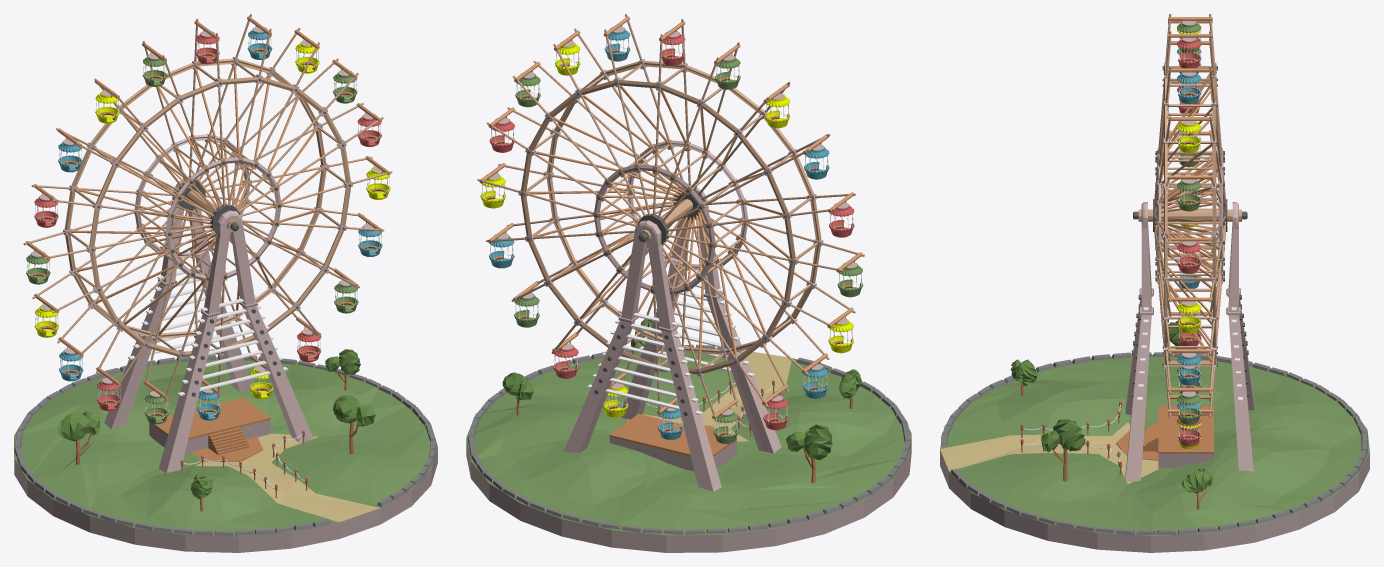
Rendered from ferris-wheel-wlp-series-v1.glb.
3 views of the same model, side by side, from view 1: azimuth 30°, elevation 25°; view 2: azimuth 150°, elevation 25°; view 3: azimuth 270°, elevation 25° (orthographic). The views are drawn at different scales.
Parts seen in each view (by area): view 1: Cylinder.015_WLP17_0_1; view 2: Cylinder.015_WLP17_0_1; view 3: Cylinder.015_WLP17_0_1.
Boxes of the visible parts, left/top/right/bottom form: Cylinder.015_WLP17_0_1: left=14, top=14, right=437, bottom=552; Cylinder.015_WLP17_0_1: left=466, top=14, right=911, bottom=552; Cylinder.015_WLP17_0_1: left=940, top=14, right=1369, bottom=552.
Size of the model in its own units: 63.39 by 70.04 by 63.43.
1 material, 1 textured.
